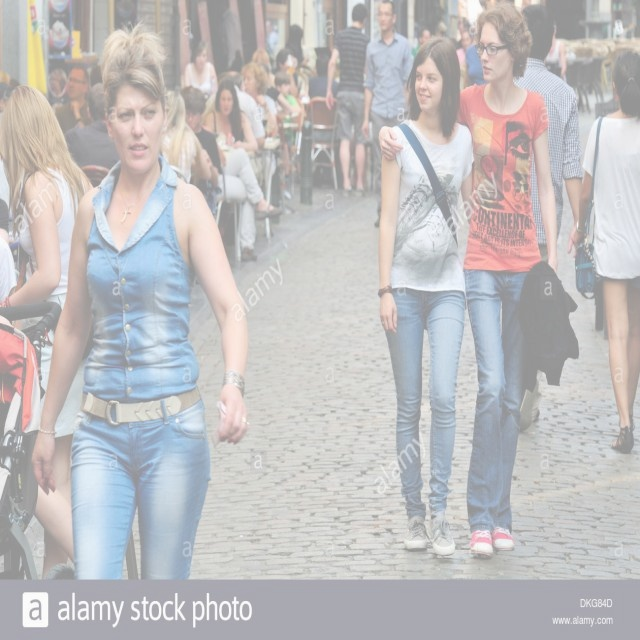pessoa: (31, 19, 251, 581), (377, 1, 560, 560), (372, 31, 482, 562), (0, 80, 96, 580), (510, 0, 587, 432), (572, 46, 640, 458), (361, 0, 416, 231), (200, 120, 284, 264), (322, 0, 381, 202), (56, 80, 123, 188), (207, 69, 266, 183), (179, 84, 224, 215), (0, 63, 21, 317), (160, 89, 213, 184), (307, 52, 342, 189), (240, 62, 278, 178), (204, 77, 260, 152), (274, 70, 302, 179), (51, 66, 93, 132), (182, 38, 220, 101), (257, 61, 297, 118), (419, 18, 477, 46), (544, 19, 568, 84), (272, 48, 300, 96), (462, 42, 490, 89), (44, 66, 72, 109), (284, 23, 310, 68), (251, 46, 276, 88), (615, 0, 638, 44), (454, 30, 472, 68), (262, 19, 278, 52), (477, 0, 515, 10), (89, 60, 104, 84), (232, 48, 243, 70)
